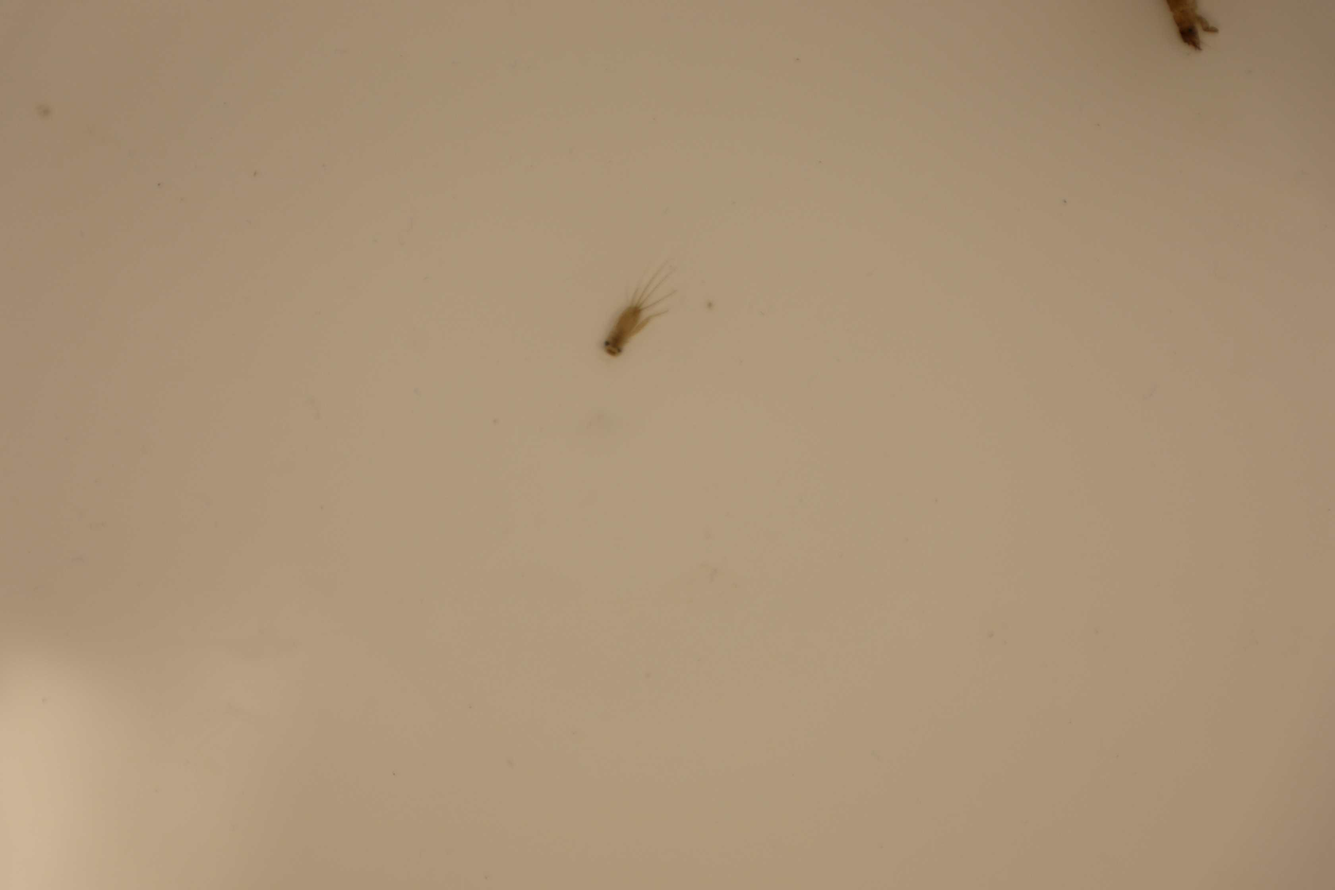Mayfly: (595, 257, 677, 360)
Other: (1159, 0, 1219, 52)
